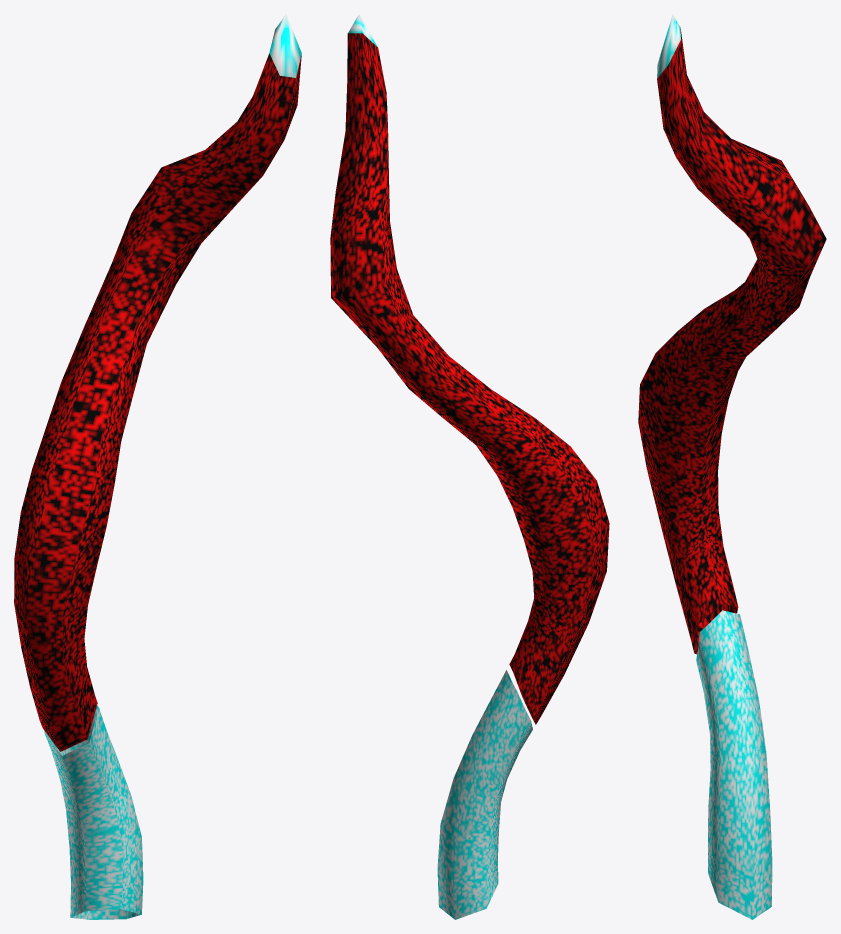
The model's file is SM_Tentacle_02_KMH.fbx.
The picture shows the model from 3 angles, left to right: view 1: azimuth 30°, elevation 25°; view 2: azimuth 150°, elevation 25°; view 3: azimuth 270°, elevation 25°; orthographic projection. The views are drawn at different scales.
Visible parts, largest first — view 1: SM_Tentacle_02_KMH; view 2: SM_Tentacle_02_KMH; view 3: SM_Tentacle_02_KMH.
Boxes of the visible parts, box(x1,y1,x2,y2) form: SM_Tentacle_02_KMH: box(14, 14, 301, 919); SM_Tentacle_02_KMH: box(330, 14, 609, 919); SM_Tentacle_02_KMH: box(638, 14, 826, 919).
Bounding box in the file's own units: 66.4 × 207 × 36.46.
